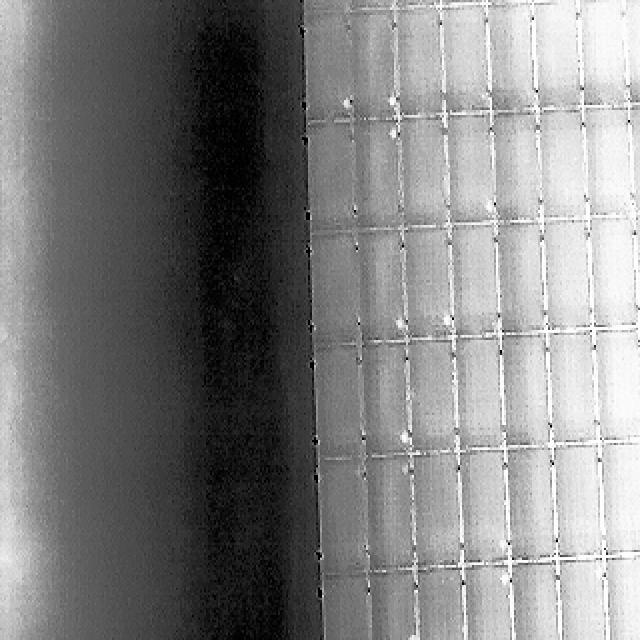Hotspots: (439, 313, 455, 334), (339, 94, 354, 116), (399, 429, 413, 452), (391, 318, 407, 338)
PV-modules: (359, 346, 410, 461), (507, 448, 558, 562), (356, 231, 406, 345), (548, 338, 598, 452), (364, 457, 414, 571), (452, 225, 502, 338), (408, 344, 458, 457), (506, 339, 556, 451), (404, 229, 454, 341), (590, 333, 640, 445), (462, 451, 511, 565), (320, 460, 369, 574), (413, 454, 462, 568), (318, 347, 366, 463), (487, 5, 538, 114), (498, 224, 548, 335), (352, 123, 402, 234), (458, 341, 507, 454), (554, 445, 603, 558), (582, 108, 632, 218), (396, 10, 446, 120), (587, 219, 636, 331), (543, 220, 592, 332), (301, 11, 349, 125), (580, 1, 630, 110), (535, 3, 585, 111), (400, 122, 450, 230), (443, 115, 492, 225), (348, 11, 396, 123), (492, 112, 540, 223), (308, 121, 356, 232), (440, 8, 488, 118), (540, 110, 588, 220), (312, 235, 359, 347), (602, 443, 640, 555), (514, 557, 564, 640), (558, 560, 608, 640), (414, 562, 464, 640), (464, 567, 514, 640), (370, 570, 418, 640), (602, 552, 640, 640), (324, 572, 372, 640), (624, 0, 640, 108), (634, 215, 640, 327), (636, 105, 640, 215)
